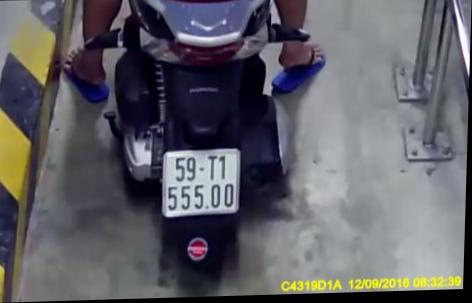LP: (162, 147, 243, 218)
